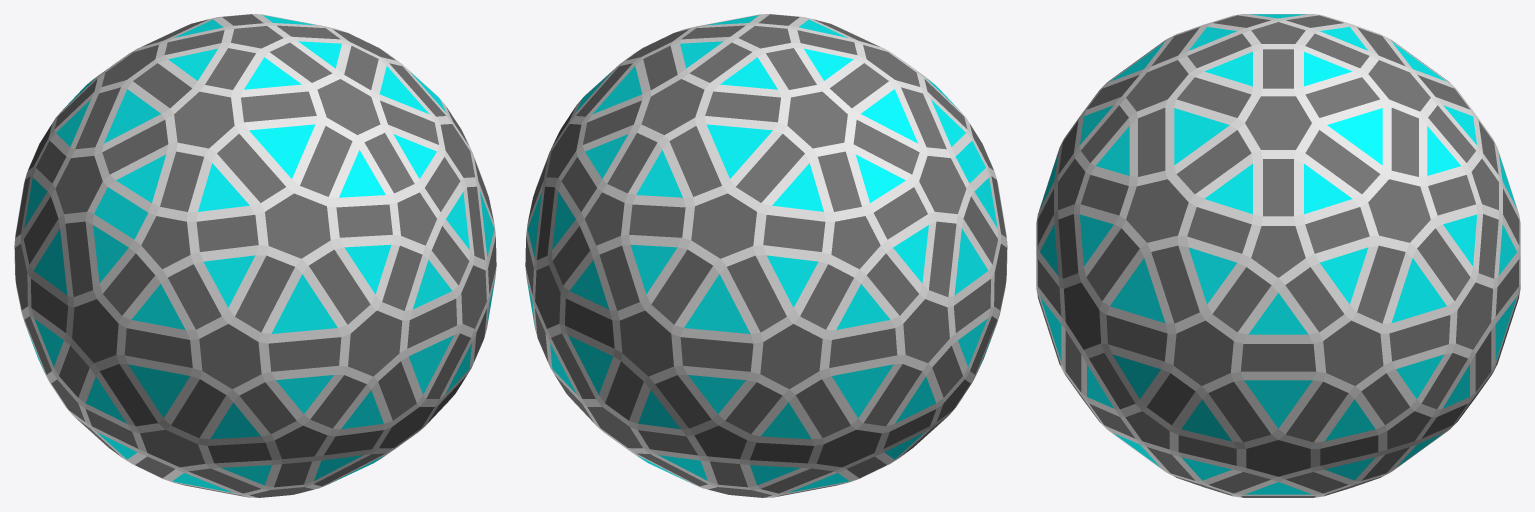
The model's file is Ball.fbx.
The picture shows the model from 3 angles, left to right: view 1: azimuth 30°, elevation 25°; view 2: azimuth 150°, elevation 25°; view 3: azimuth 270°, elevation 25°; orthographic projection.
Parts seen in each view (by area): view 1: Icosphere; view 2: Icosphere; view 3: Icosphere.
Part boxes in pixels (x1=…): Icosphere: x1=14, y1=14, x2=496, y2=497; Icosphere: x1=525, y1=14, x2=1007, y2=497; Icosphere: x1=1036, y1=14, x2=1520, y2=497.
Bounding box in the file's own units: 188 × 190 × 188.
